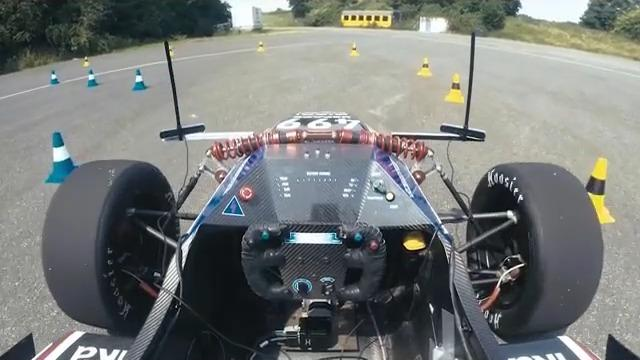blue_cone: (37, 127, 87, 185), (124, 67, 156, 93), (82, 69, 103, 90), (44, 68, 62, 84)
yellow_cone: (570, 154, 615, 224), (446, 69, 469, 105), (415, 51, 435, 79), (349, 39, 362, 57), (256, 37, 270, 53)
